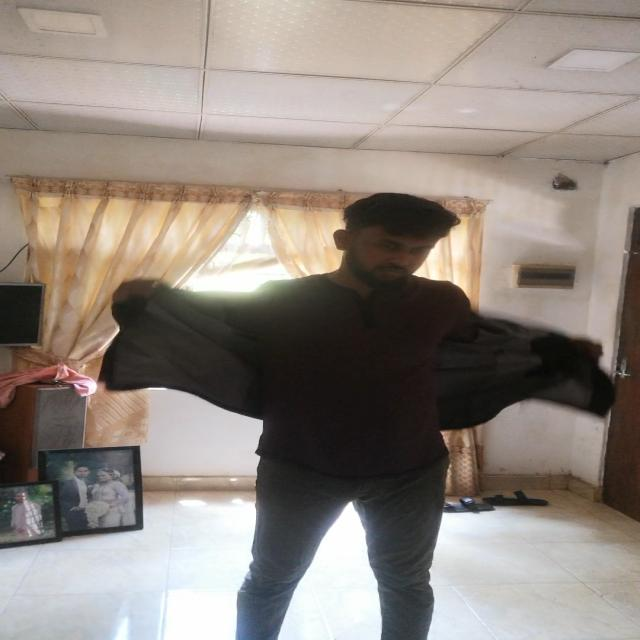Jacket_Wearer: (105, 262, 625, 451)
Person: (216, 183, 496, 640)
